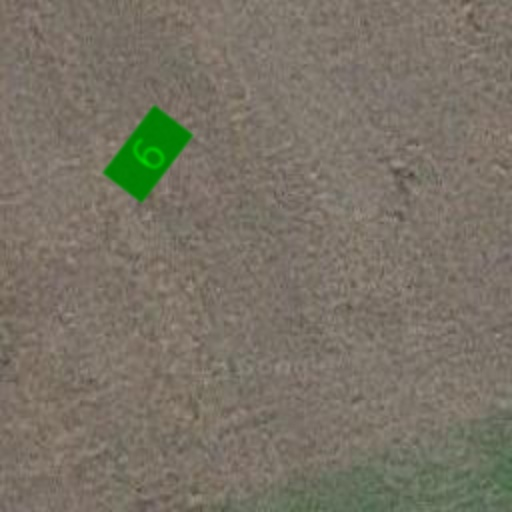rectangle: (86, 92, 210, 216)
